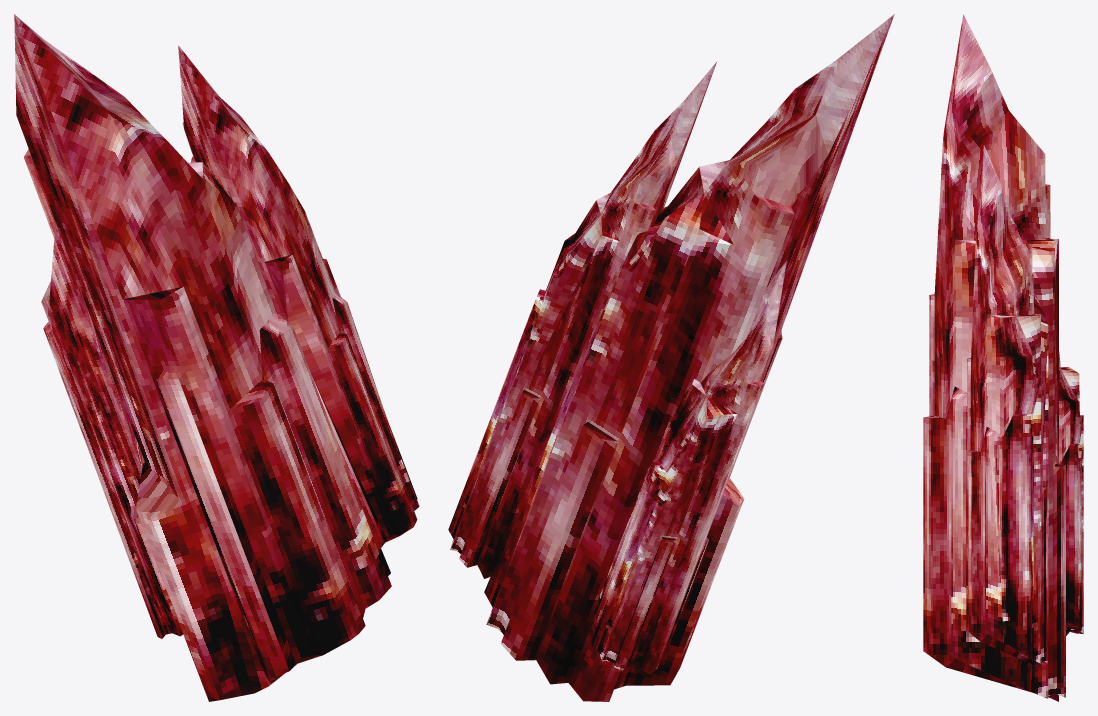
File: ps2_save-icons_echonightbeyond.glb
3 renders of one model, left to right at view 1: azimuth 30°, elevation 25°; view 2: azimuth 150°, elevation 25°; view 3: azimuth 270°, elevation 25°, orthographic. The views are drawn at different scales.
Visible parts, largest first — view 1: nebula.ico; view 2: nebula.ico; view 3: nebula.ico.
Part boxes in pixels (x1,y1,x2,y2): nebula.ico: (14, 14, 419, 701); nebula.ico: (448, 14, 894, 701); nebula.ico: (923, 14, 1083, 701).
Size of the model in its own units: 2.81 by 4.69 by 1.17.
1 material, 1 textured.
